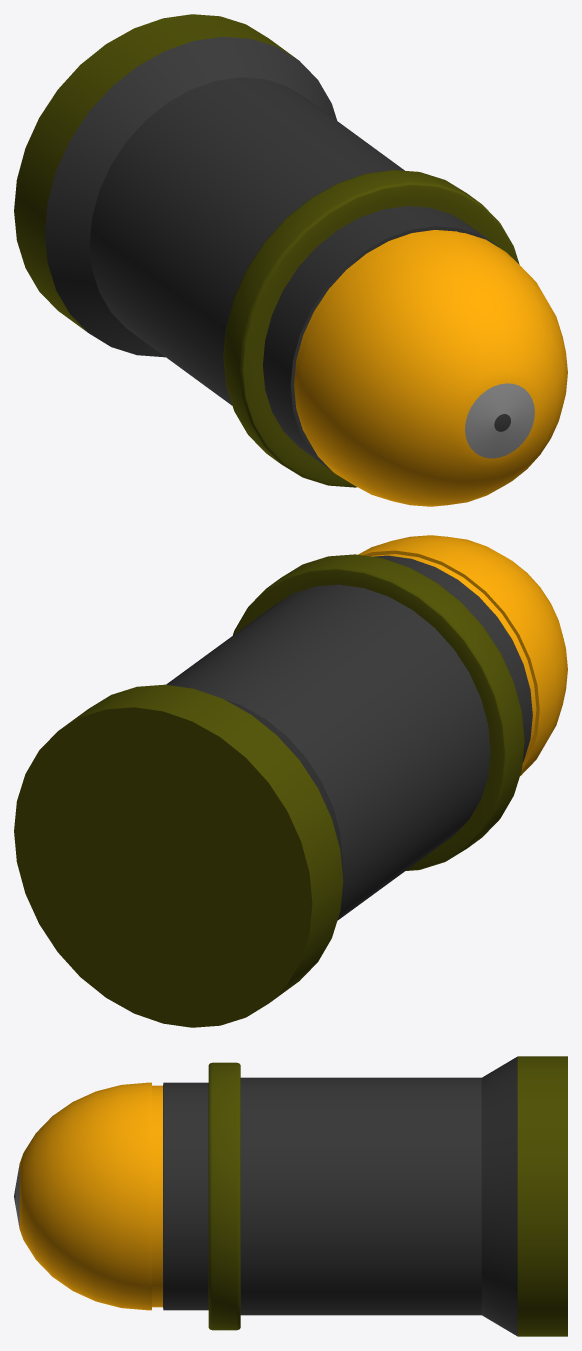
Rendered from Grenade projectile v2.fbx.
The picture shows the model from 3 angles, top to bottom: view 1: azimuth 30°, elevation 25°; view 2: azimuth 150°, elevation 25°; view 3: azimuth 270°, elevation 25°; orthographic projection. The views are drawn at different scales.
Parts seen in each view (by area): view 1: Sphere; view 2: Sphere; view 3: Sphere.
Boxes of the visible parts, x1,y1,x2,y2 form: Sphere: (14, 14, 567, 506); Sphere: (14, 535, 567, 1027); Sphere: (14, 1056, 567, 1336).
Size of the model in its own units: 246 by 246 by 486.
